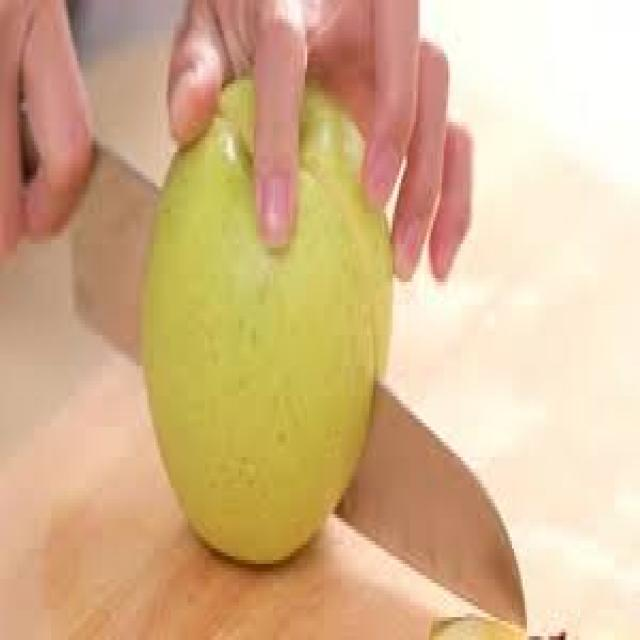Apple: (146, 76, 390, 575)
